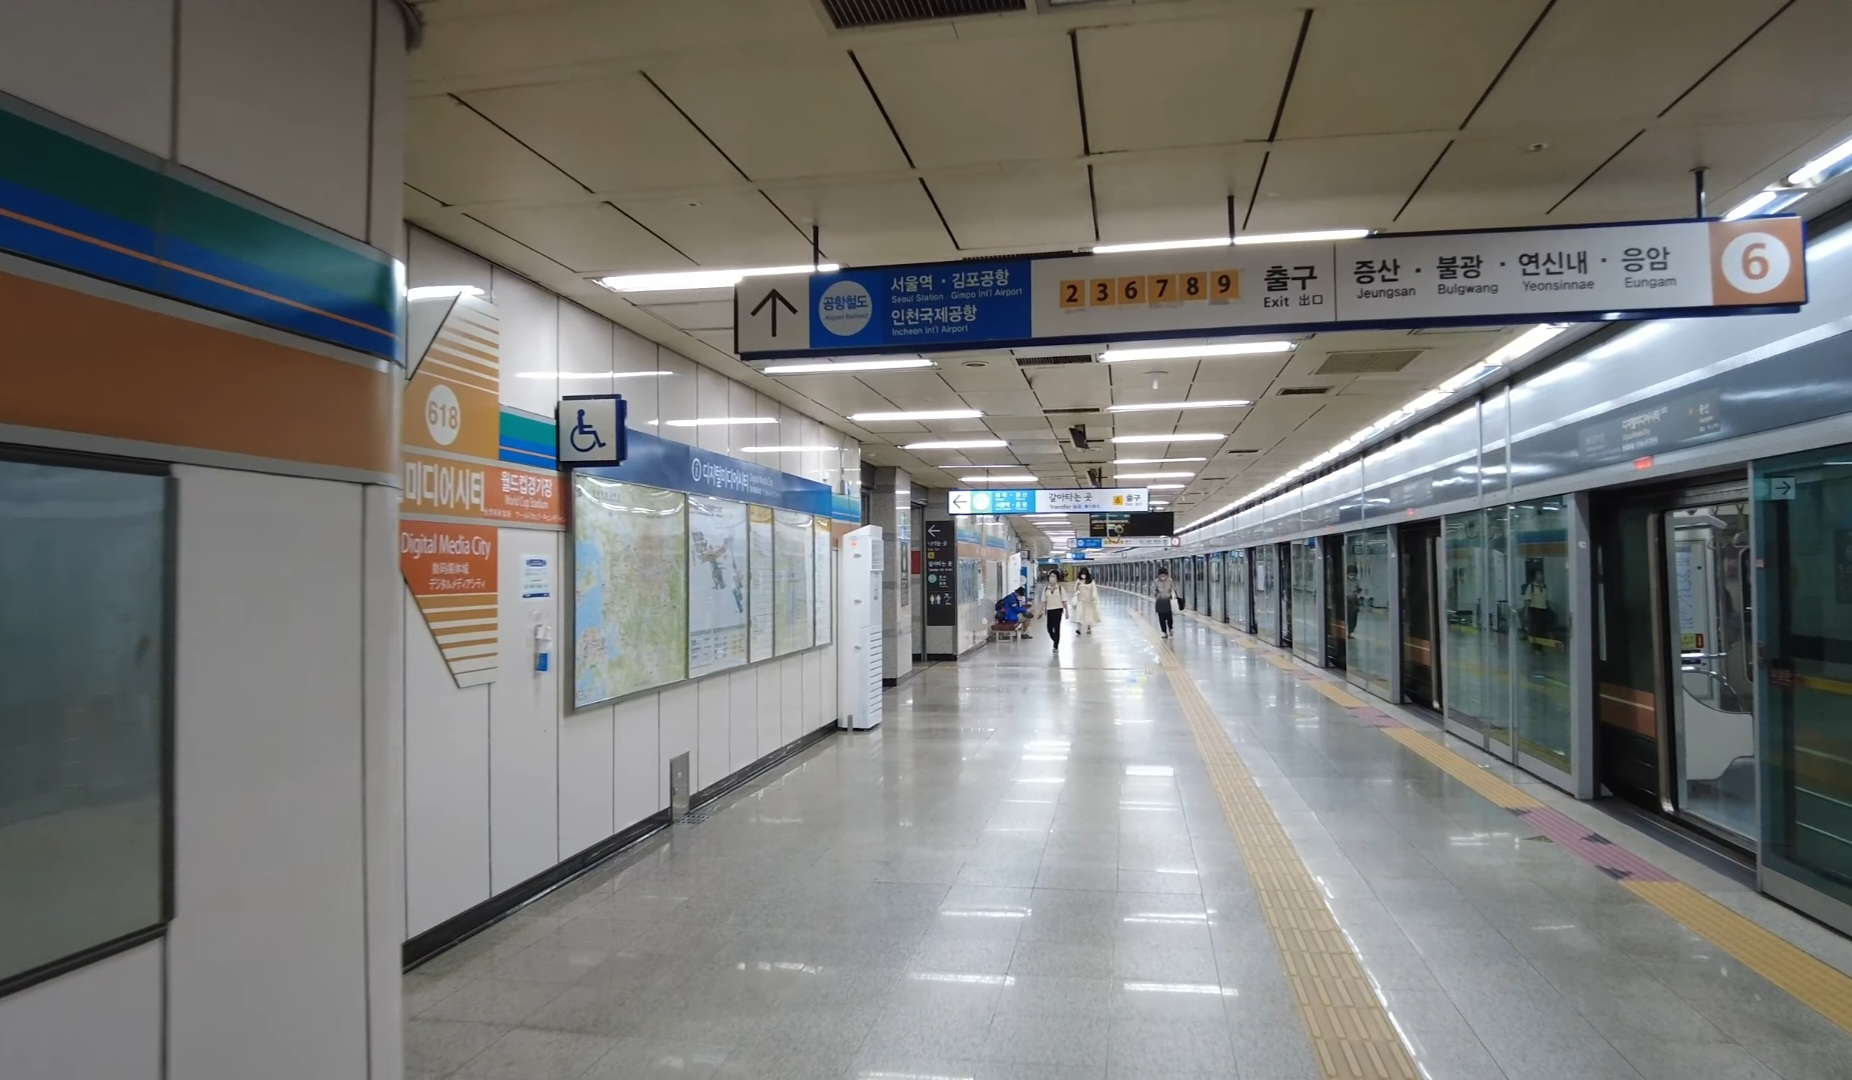signBoard: (725, 202, 1813, 369)
